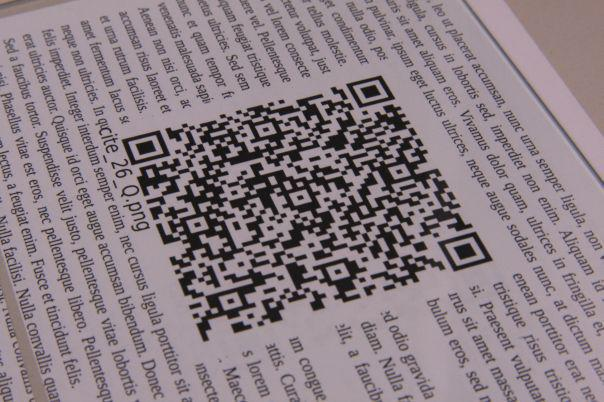Finder pattern: (438, 228, 494, 275), (120, 128, 173, 166), (346, 71, 395, 109)
